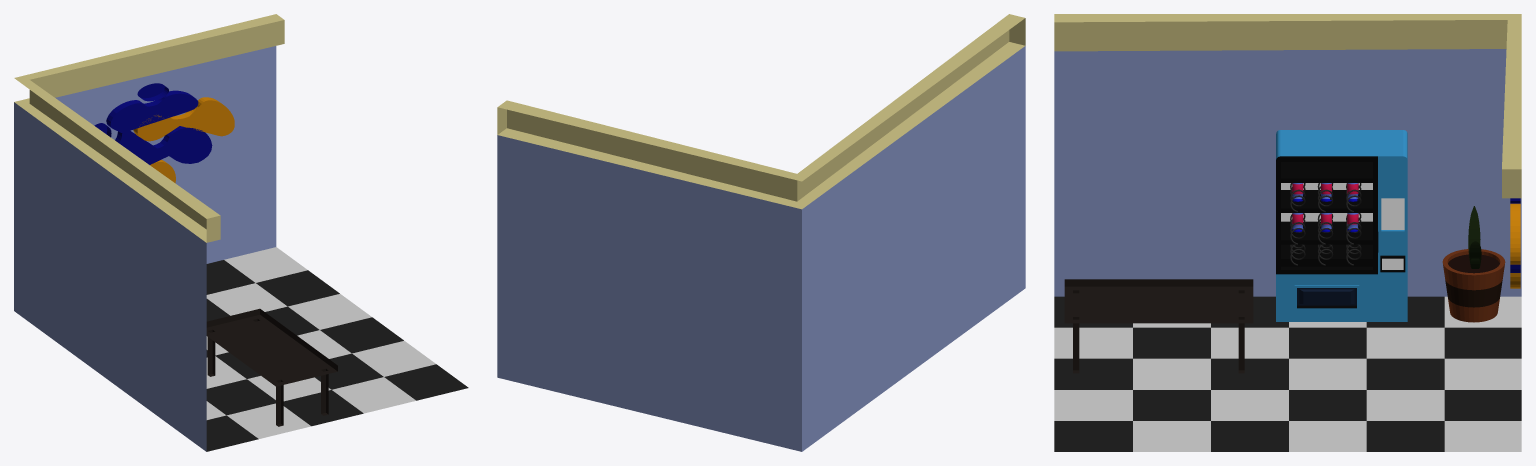
File: Allanim0013.obj
3 renders of one model, left to right at view 1: azimuth 30°, elevation 25°; view 2: azimuth 150°, elevation 25°; view 3: azimuth 270°, elevation 25°, orthographic. The views are drawn at different scales.
Parts seen in each view (by area): view 1: ruangan_Cube.003, meja_Cube.004, logo.001_Circle.019, logo_Circle.006, logo.005_Circle.023; view 2: ruangan_Cube.003; view 3: ruangan_Cube.003, vending_machine_Cube.001, meja_Cube.004, pot_bunga_Cylinder, per_second\_Spiral.010, Plane.007, logo_Circle.006.
Boxes of the visible parts, x1,y1,x2,y2 form: ruangan_Cube.003: [14, 14, 468, 451]; meja_Cube.004: [206, 308, 337, 426]; logo.001_Circle.019: [115, 126, 212, 164]; logo_Circle.006: [133, 97, 234, 141]; logo.005_Circle.023: [106, 90, 198, 133]; ruangan_Cube.003: [497, 14, 1025, 451]; ruangan_Cube.003: [1054, 14, 1521, 451]; vending_machine_Cube.001: [1276, 130, 1407, 321]; meja_Cube.004: [1064, 279, 1253, 373]; pot_bunga_Cylinder: [1442, 249, 1505, 322]; per_second\_Spiral.010: [1290, 183, 1361, 265]; Plane.007: [1468, 206, 1481, 268]; logo_Circle.006: [1510, 203, 1520, 264].
Bounding box in the file's own units: 11.73 × 9.95 × 14.9.
